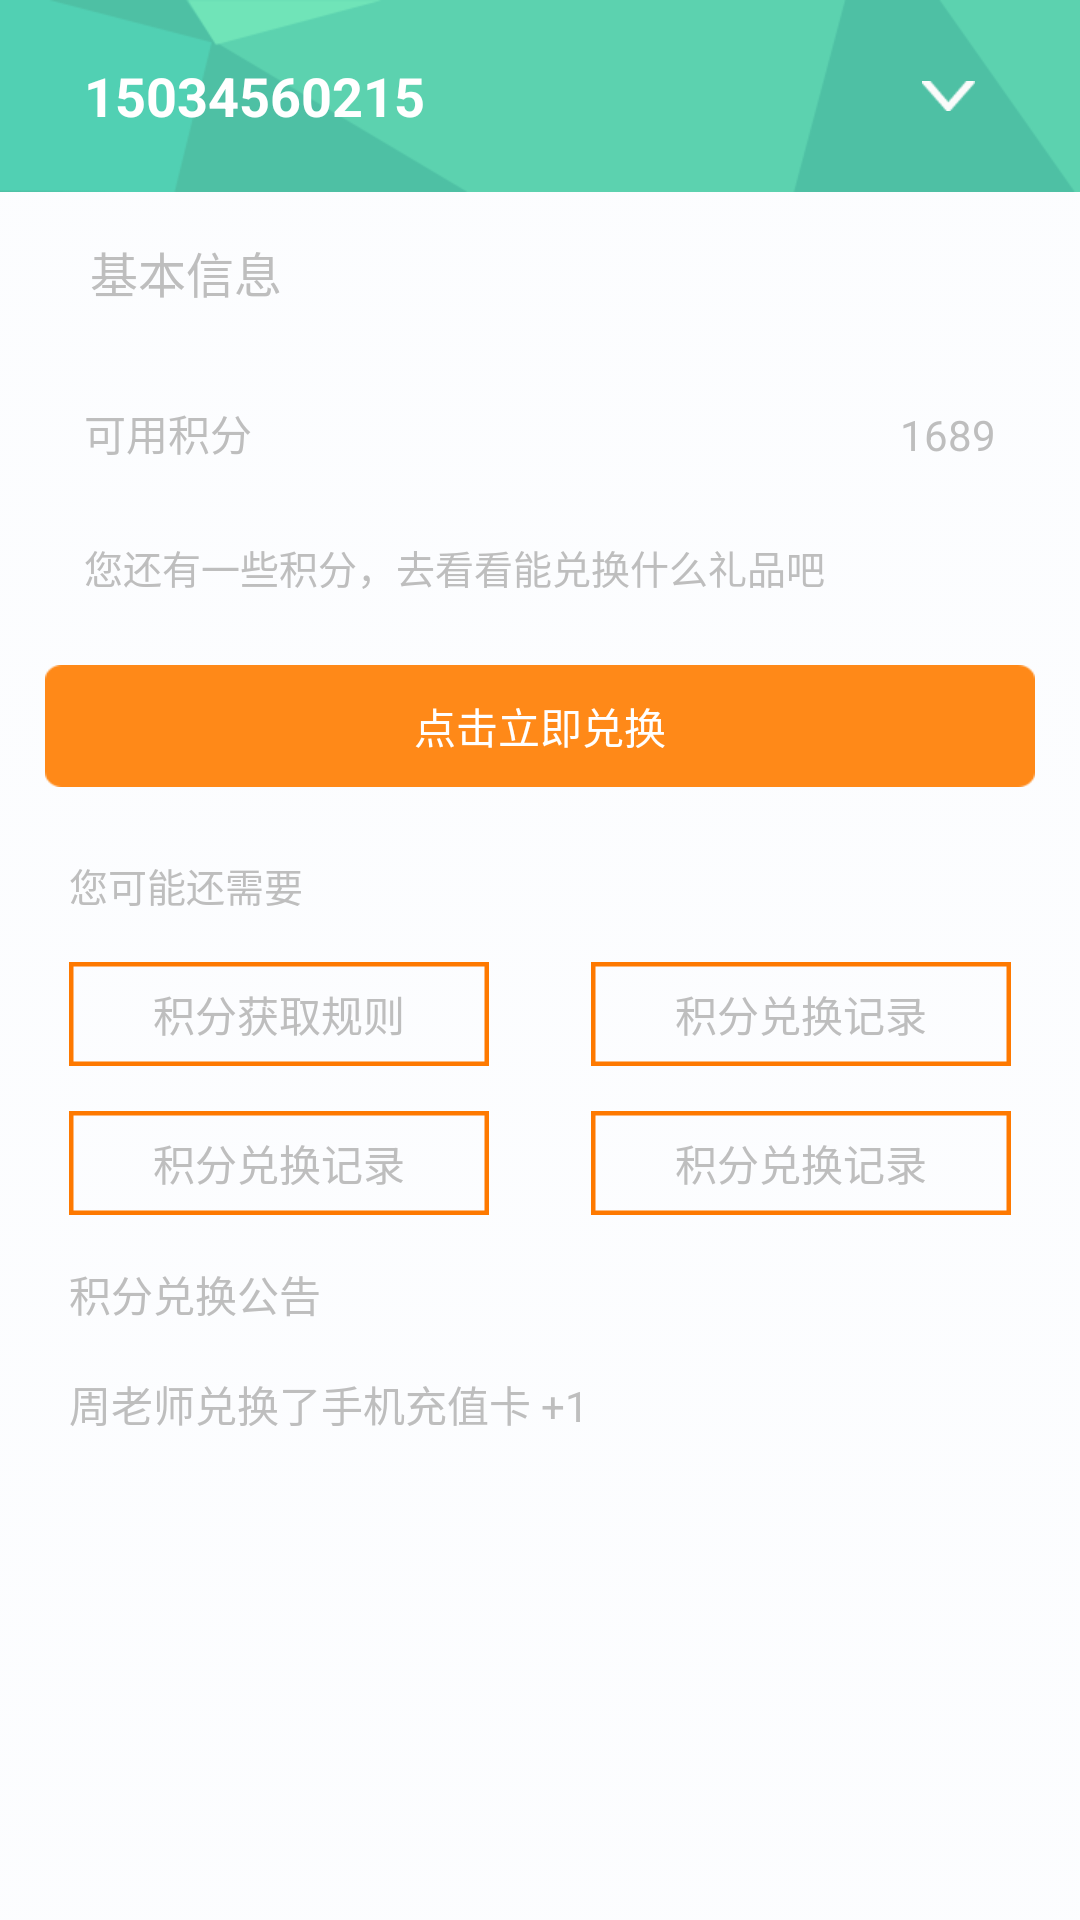

Locate icon controls on the screen. Image size 1080 x 1920, boxes as bbox(x1, y1, x2, y2).
below: bbox(922, 81, 975, 111)
